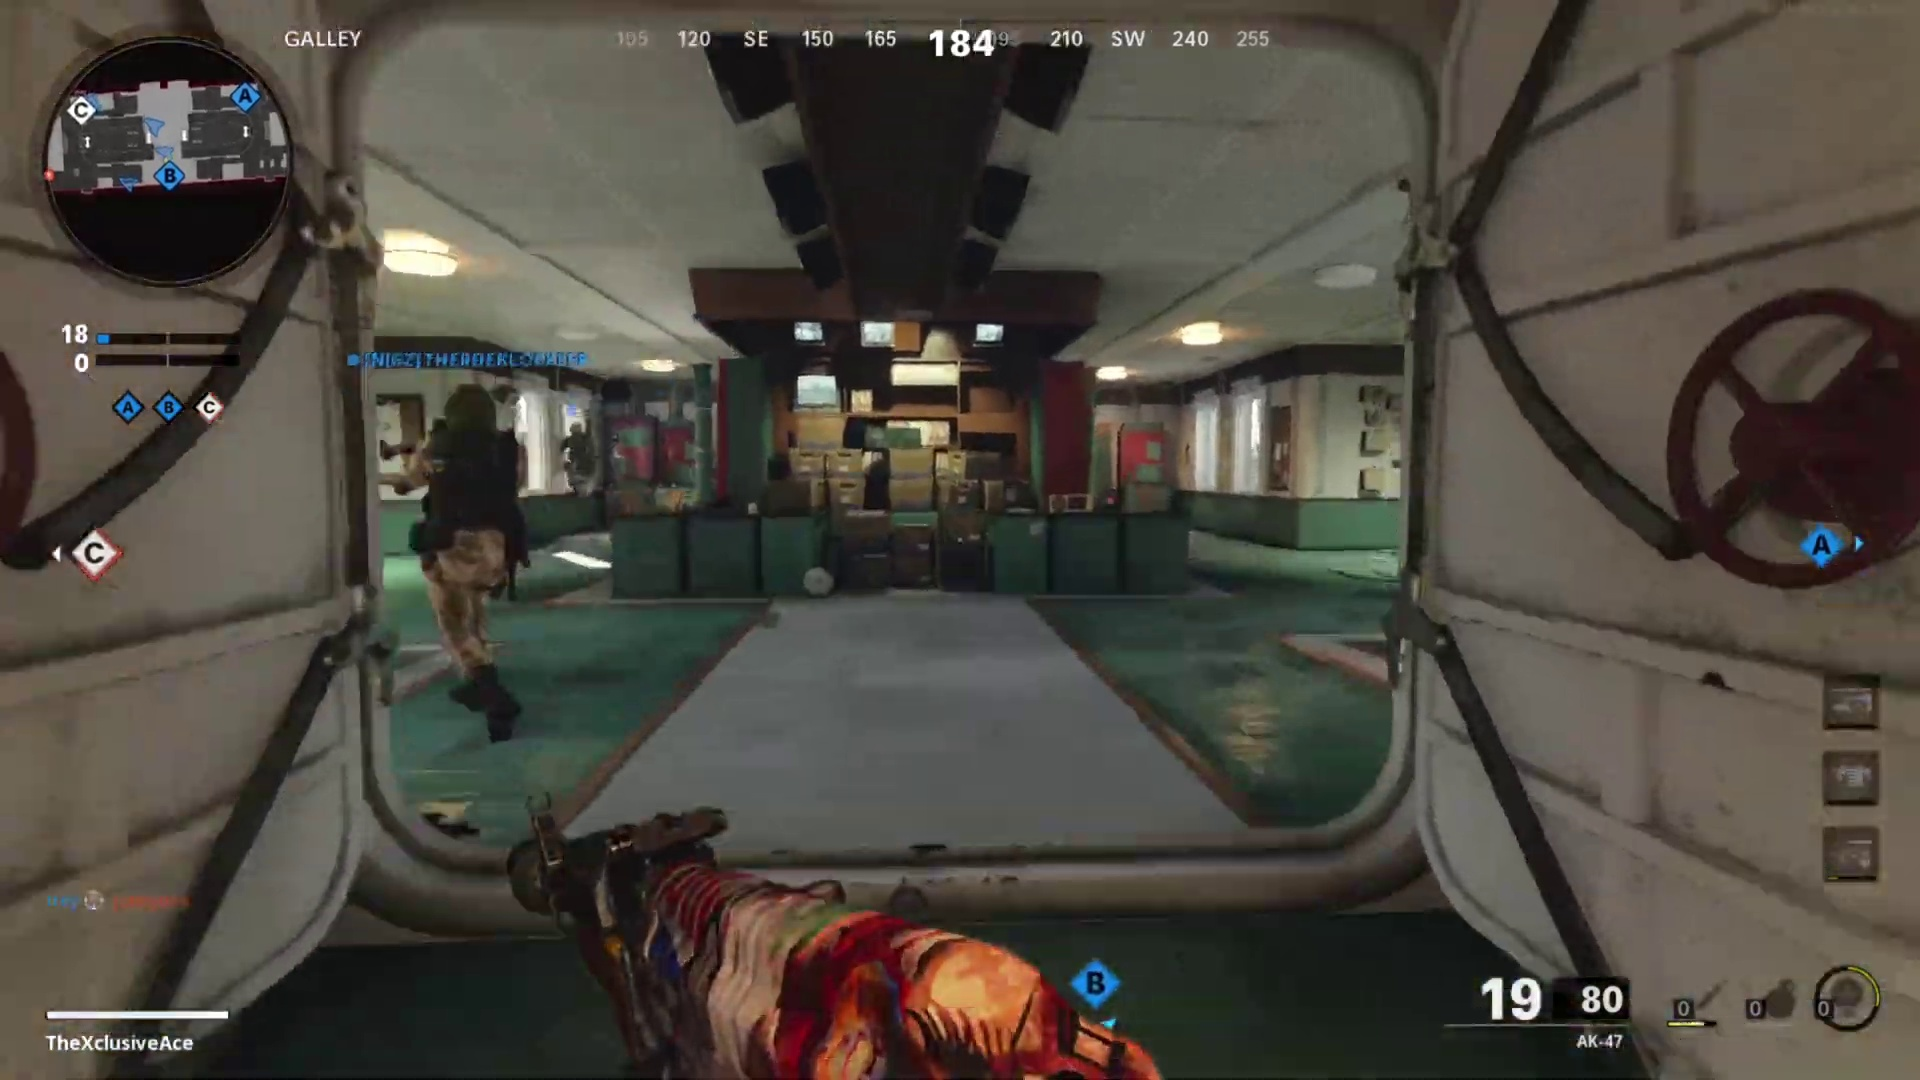person: (404, 381, 530, 730)
